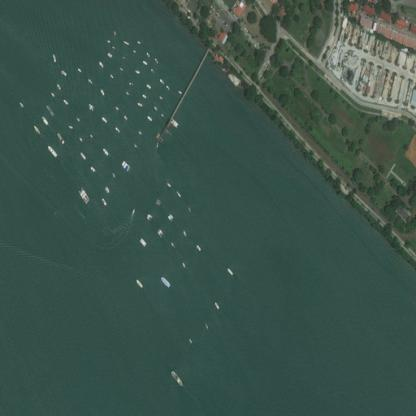ship: (164, 364, 187, 389), (74, 183, 90, 207), (156, 273, 172, 289), (44, 142, 59, 158), (221, 262, 236, 278), (118, 157, 132, 174), (84, 97, 96, 115), (42, 101, 56, 115), (132, 275, 144, 291), (46, 49, 58, 64), (136, 232, 147, 248), (55, 128, 66, 144), (111, 121, 122, 137), (99, 144, 111, 158), (74, 149, 88, 161), (14, 97, 27, 109), (153, 225, 165, 238), (142, 111, 155, 123), (101, 182, 112, 196), (211, 295, 220, 311), (151, 194, 163, 206), (38, 113, 49, 126), (57, 67, 70, 78), (164, 210, 176, 221), (127, 203, 138, 215), (64, 120, 76, 131), (110, 101, 122, 112), (98, 194, 108, 207), (59, 94, 69, 107), (94, 58, 105, 69), (200, 318, 210, 330), (192, 240, 202, 252), (143, 209, 153, 221), (172, 188, 184, 198), (87, 128, 95, 143), (130, 140, 140, 152), (98, 84, 108, 96), (166, 238, 176, 249), (74, 133, 85, 143), (98, 113, 109, 123), (151, 53, 161, 64), (155, 91, 165, 102), (106, 70, 116, 81), (116, 61, 126, 72), (140, 89, 150, 100), (31, 123, 40, 135), (121, 87, 133, 96), (179, 225, 187, 238), (105, 48, 113, 61), (134, 99, 147, 107), (120, 37, 130, 47), (139, 57, 149, 67), (143, 80, 153, 90), (178, 258, 186, 270), (184, 201, 192, 213), (164, 177, 172, 189), (88, 162, 96, 174), (164, 80, 172, 92), (157, 73, 164, 86), (103, 35, 112, 45), (119, 52, 128, 62), (125, 78, 136, 86), (74, 62, 81, 74), (136, 124, 143, 136), (184, 336, 194, 344), (84, 75, 92, 85), (132, 66, 142, 74), (48, 88, 55, 99), (121, 112, 128, 123), (176, 87, 184, 96), (110, 45, 118, 53), (143, 48, 150, 57), (134, 36, 141, 44), (111, 26, 116, 37), (110, 168, 114, 179)
